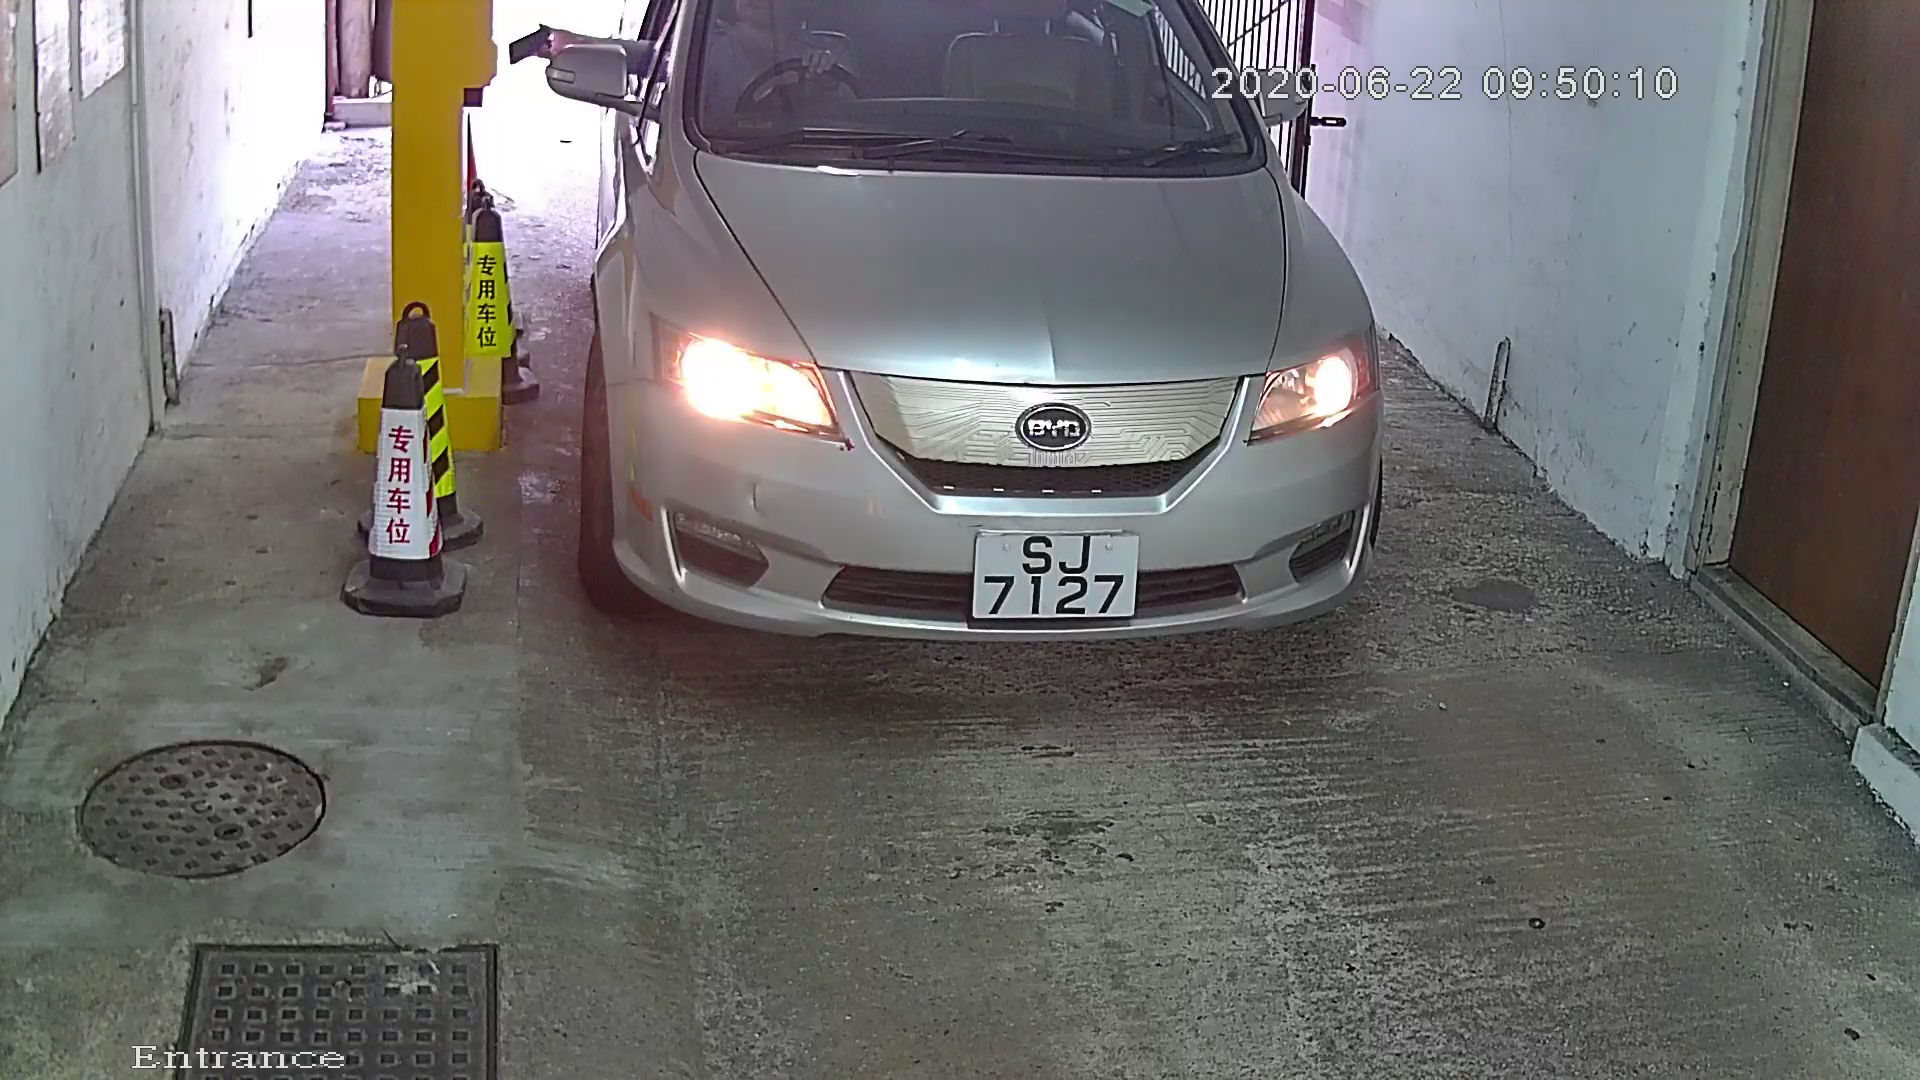privatecar: (550, 1, 1453, 694)
